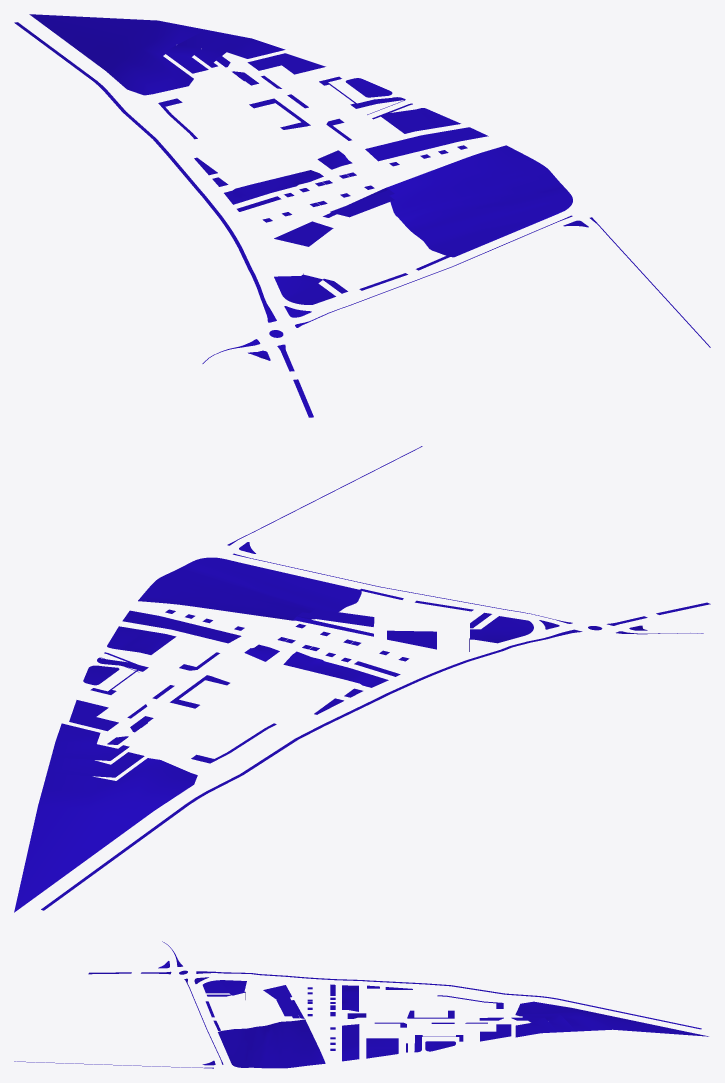
Rendered from SM_Env_soil_01a.fbx.
3 renders of one model, top to bottom at view 1: azimuth 30°, elevation 25°; view 2: azimuth 150°, elevation 25°; view 3: azimuth 270°, elevation 25°, orthographic. The views are drawn at different scales.
Visible parts, largest first — view 1: SM_Env_soil_01a; view 2: SM_Env_soil_01a; view 3: SM_Env_soil_01a.
Part boxes in pixels (x1,y1,x2,y2): SM_Env_soil_01a: [14, 14, 710, 417]; SM_Env_soil_01a: [14, 446, 710, 912]; SM_Env_soil_01a: [14, 941, 708, 1068].
Size of the model in its own units: 23540 by 2572 by 50113.
